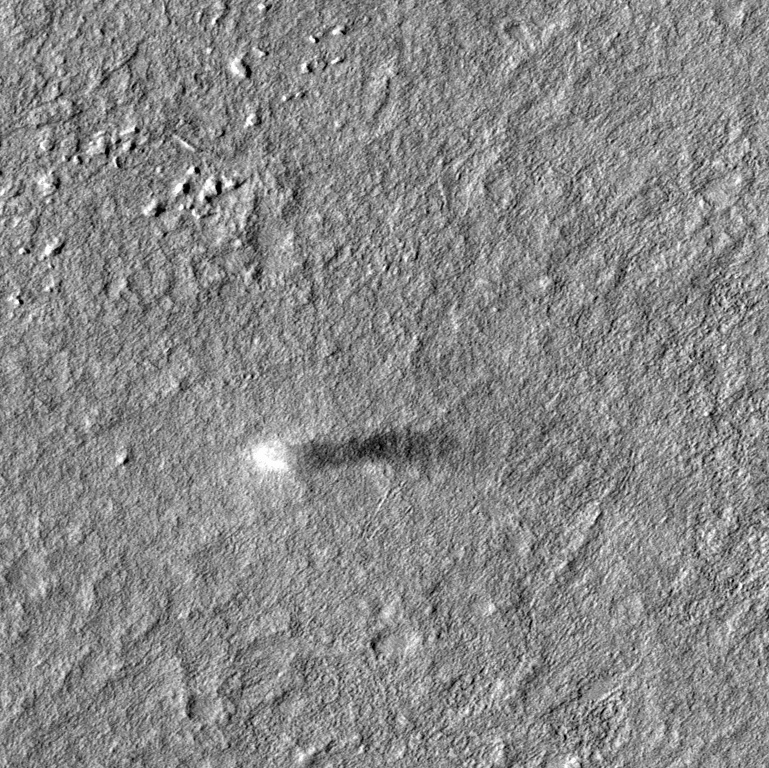dust_devil: (247, 428, 464, 479)
